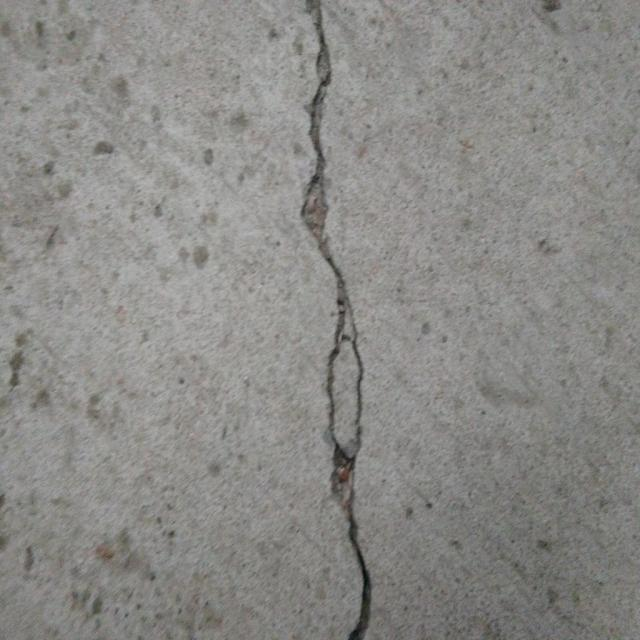cracks: (272, 9, 398, 640)
